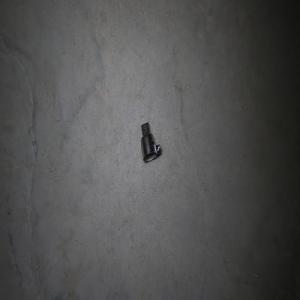MetalPart: (140, 121, 161, 162)
